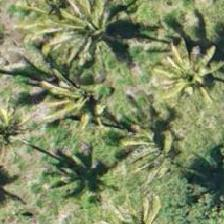coconut_tree: (114, 104, 204, 194), (38, 57, 128, 147), (150, 29, 223, 119), (54, 0, 144, 67), (0, 88, 61, 178), (0, 0, 82, 47)
